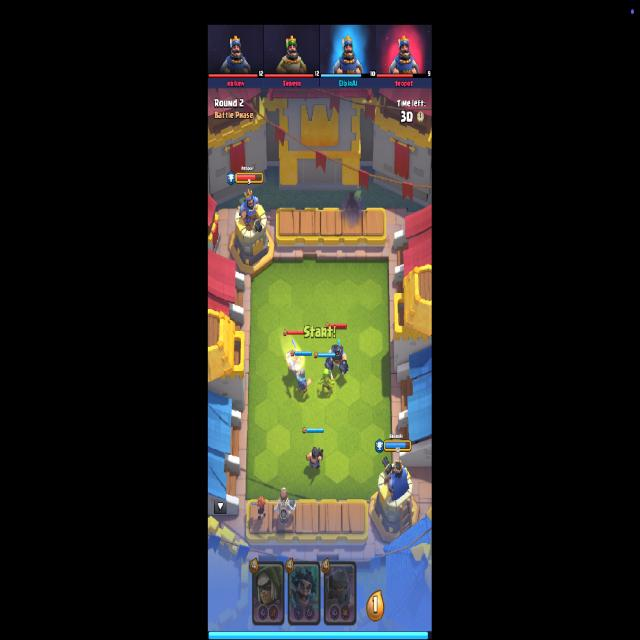card_bandit: (251, 561, 285, 626)
card_e_wiz: (288, 562, 321, 626)
card_mega_knight: (324, 561, 356, 626)
executioner: (304, 446, 324, 472)
giant_skeleton: (274, 488, 296, 528)
goblin: (318, 369, 335, 394)
knight: (284, 339, 302, 377), (295, 369, 311, 394)
mega_knight: (326, 339, 349, 377)
valkyrie: (251, 496, 267, 520)
